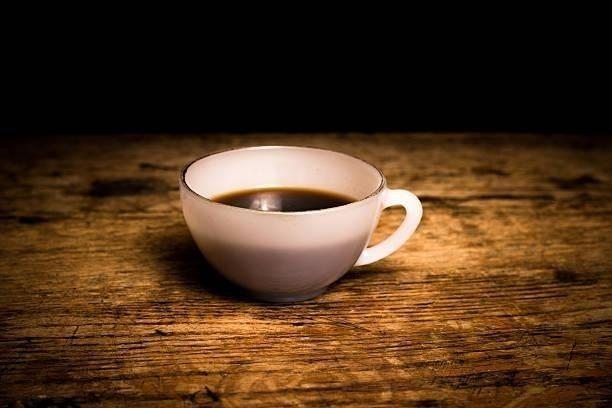cup-handle: (177, 142, 424, 304)
